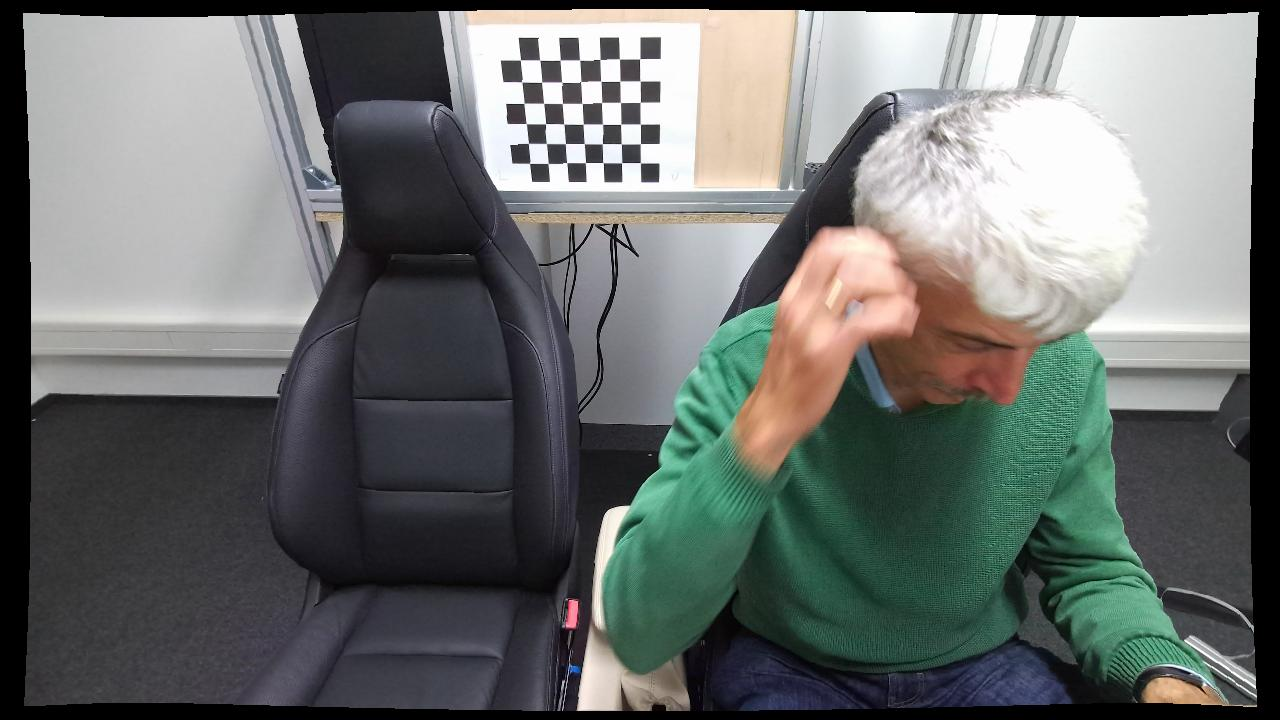Distracted: (596, 85, 1165, 719)
